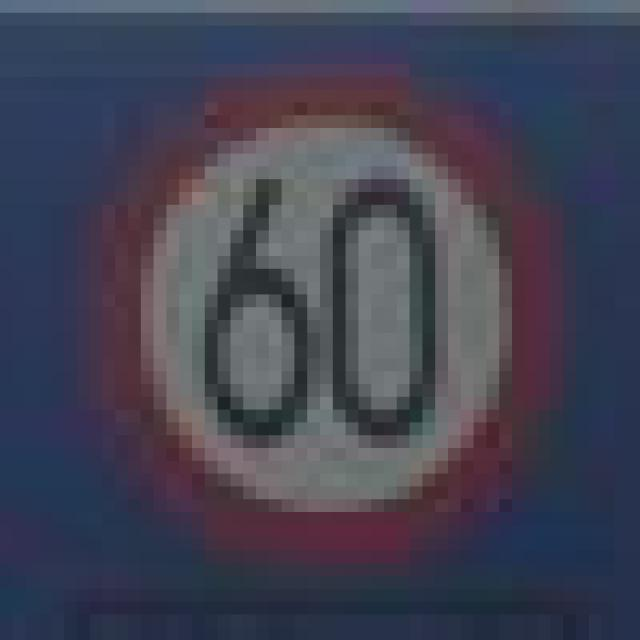SPEED_LIMIT_60: (102, 64, 550, 538)
